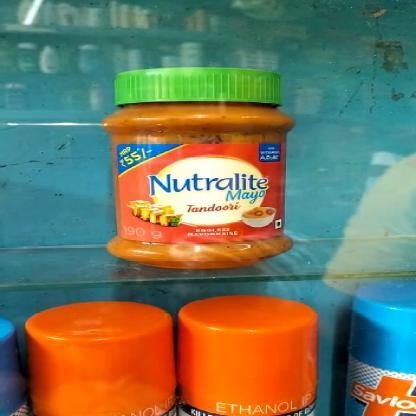Nutralite TANDOORI MAYO 300g-275g-25g-: (102, 68, 300, 268)
